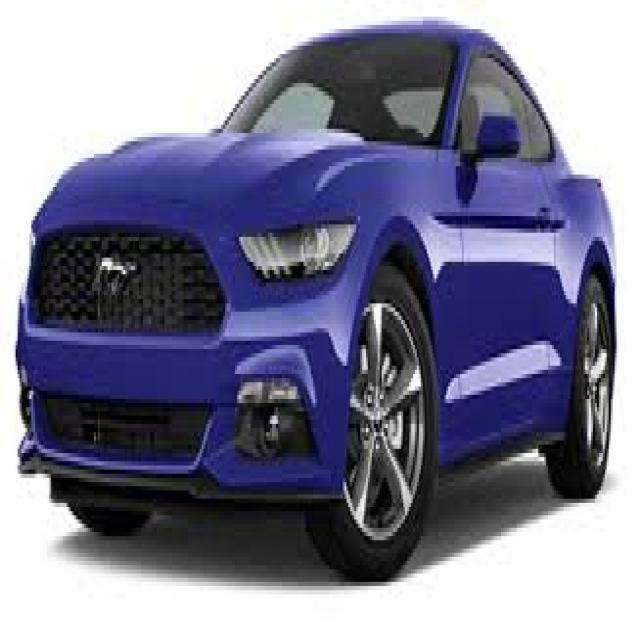Car: (10, 19, 616, 547)
